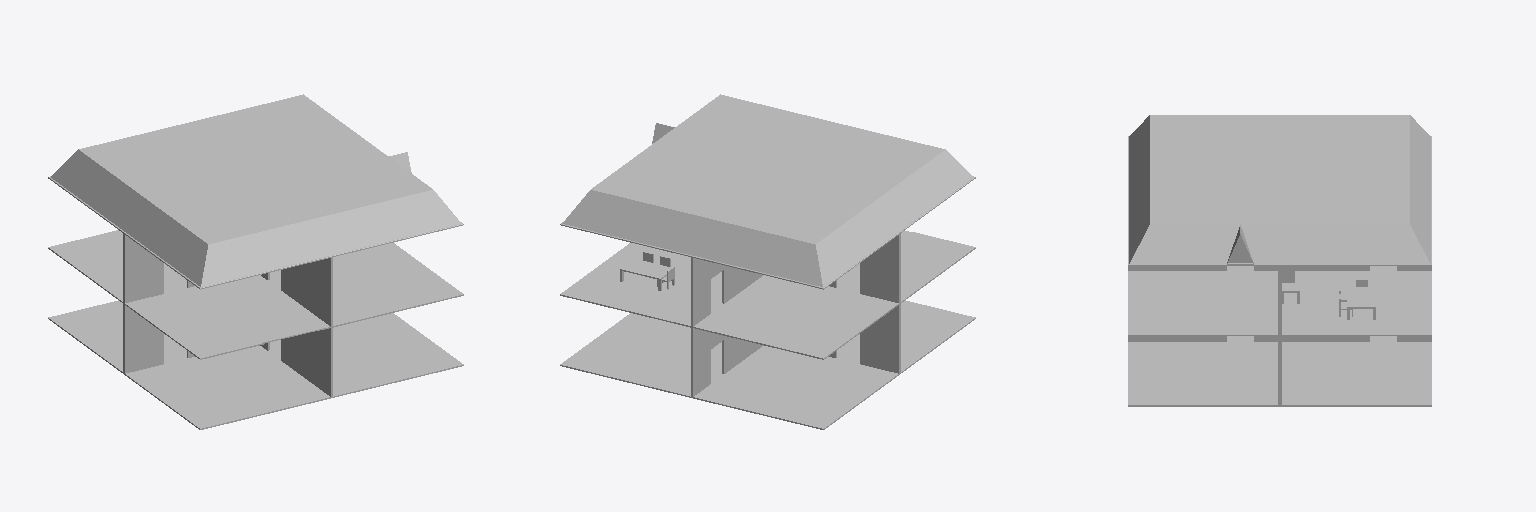
The model's file is HouseSizeTest.obj.
3 renders of one model, left to right at view 1: azimuth 30°, elevation 25°; view 2: azimuth 150°, elevation 25°; view 3: azimuth 270°, elevation 25°, orthographic.
Visible parts, largest first — view 1: modelPanel3ViewSelectedSet polySurface1, polySurface1; view 2: modelPanel3ViewSelectedSet polySurface1, polySurface1; view 3: modelPanel3ViewSelectedSet polySurface1, polySurface1.
Part boxes in pixels (x1,y1,x2,y2): modelPanel3ViewSelectedSet polySurface1: (48,94,463,428); polySurface1: (48,177,463,429); modelPanel3ViewSelectedSet polySurface1: (560,94,975,428); polySurface1: (560,177,975,429); modelPanel3ViewSelectedSet polySurface1: (1128,115,1431,404); polySurface1: (1128,265,1431,406).
Size of the model in its own units: 200 by 125 by 200.